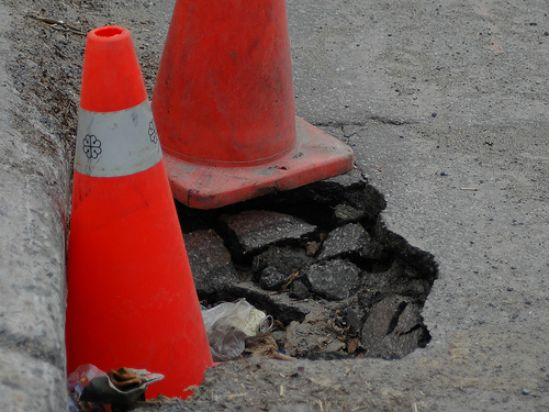pothole: (211, 174, 442, 370)
